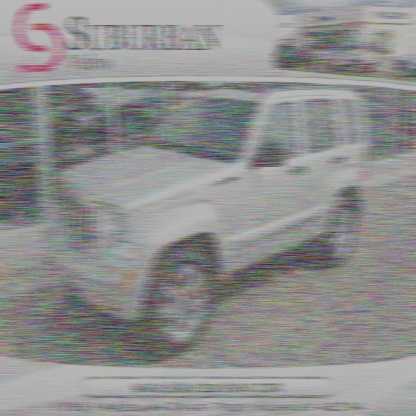Vehicle: (40, 87, 370, 355)
